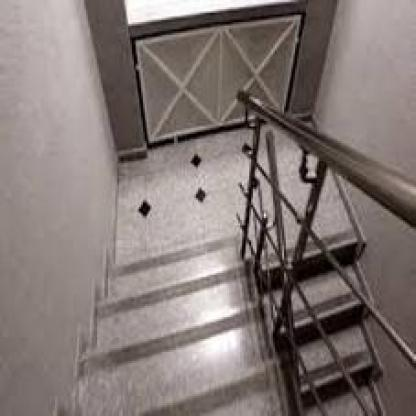stair_down: (88, 255, 258, 370)
